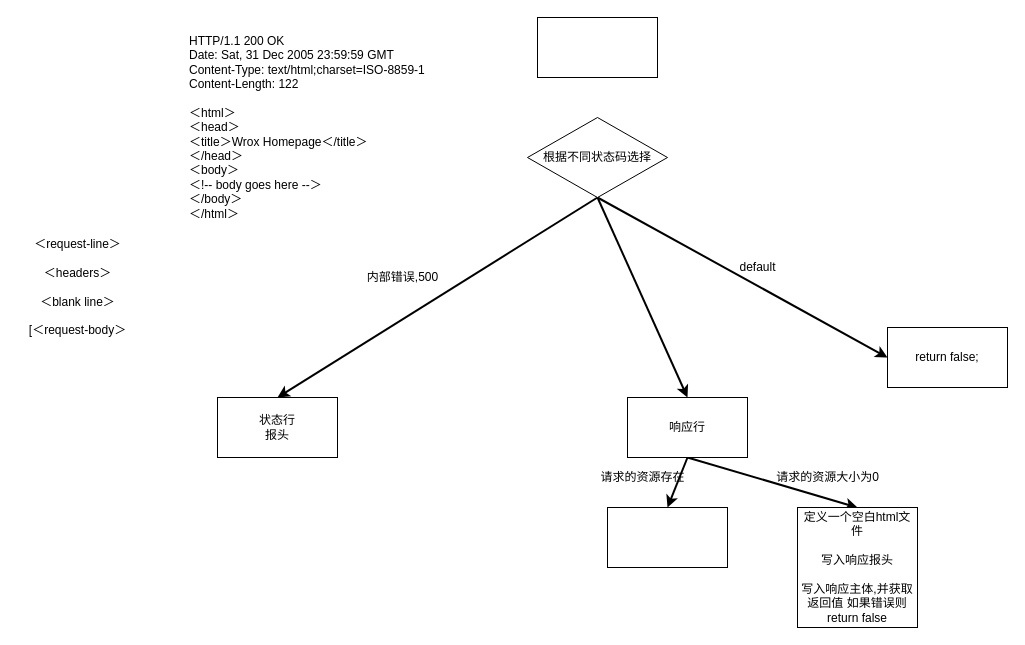
The diagram is 1025 pixels wide and 645 high, and some of its shapes have lost their labels. The centre of each missing label's shape, as x and y in pixels:
process_write: point (597, 47)
写入响应报头: point (667, 537)
